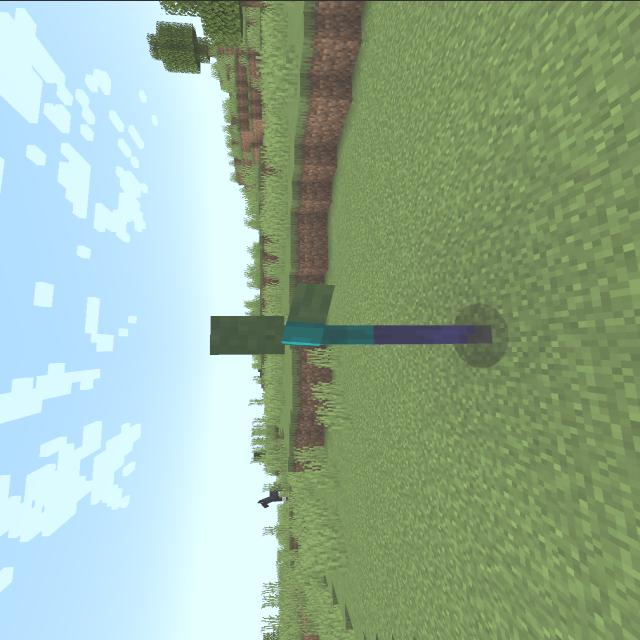Zombie: (196, 276, 528, 360)
